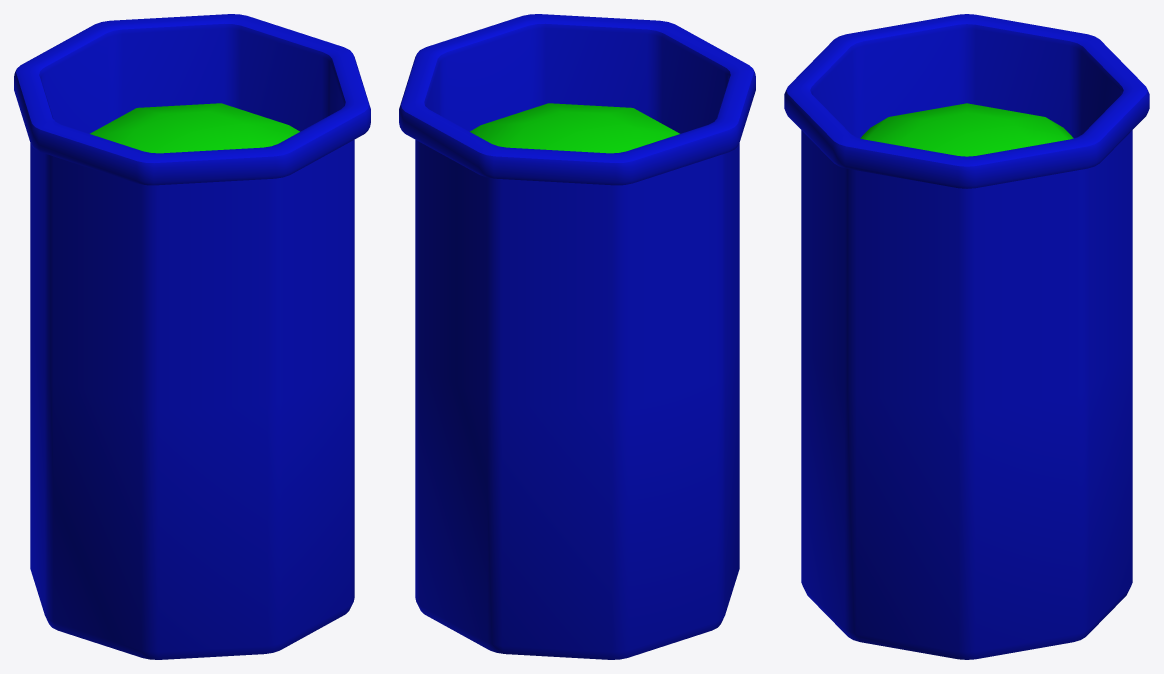
File: Trash_Bin.fbx
The picture shows the model from 3 angles, left to right: view 1: azimuth 30°, elevation 25°; view 2: azimuth 150°, elevation 25°; view 3: azimuth 270°, elevation 25°; orthographic projection.
Parts seen in each view (by area): view 1: trash_bin; view 2: trash_bin; view 3: trash_bin.
Boxes of the visible parts, x1=… form: trash_bin: x1=14, y1=14, x2=370, y2=659; trash_bin: x1=399, y1=14, x2=755, y2=659; trash_bin: x1=784, y1=14, x2=1149, y2=659.
Size of the model in its own units: 65.25 by 100 by 65.25.
